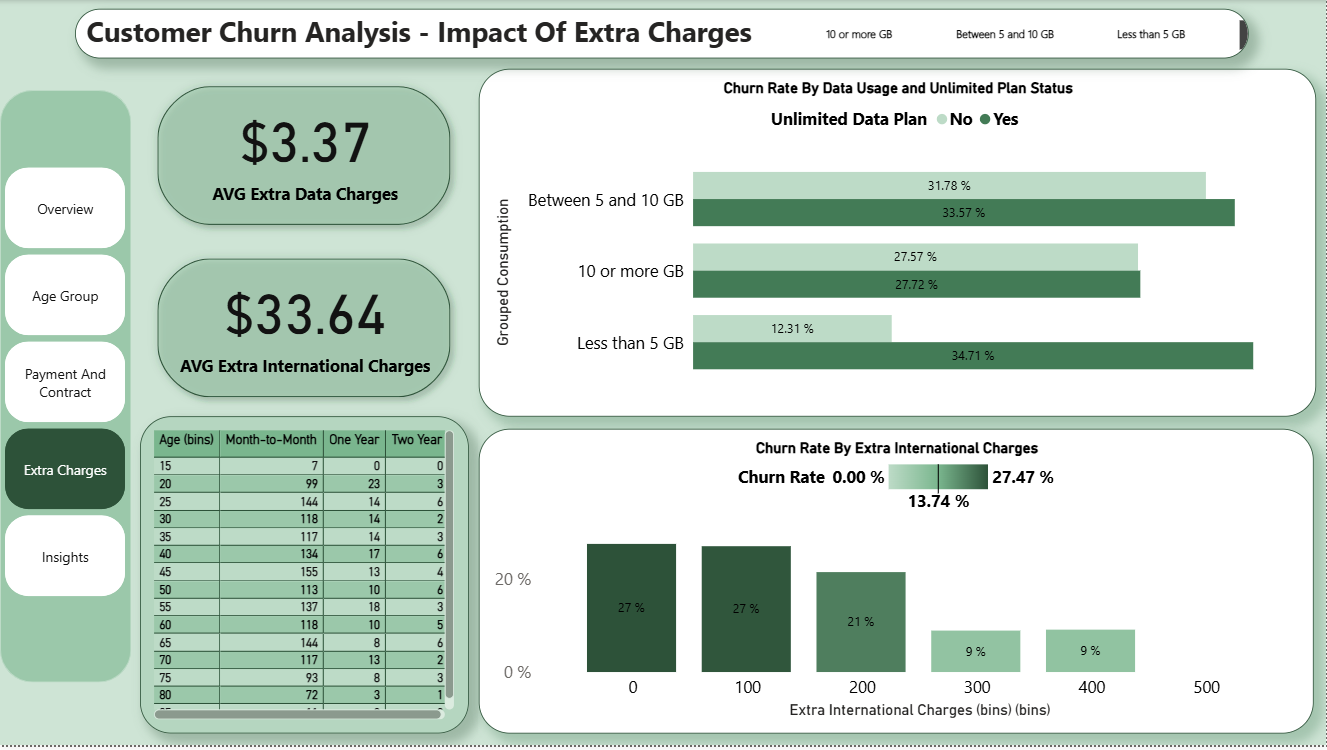

This screenshot's page, from the dashboard's own definition file:
{"tool":"powerbi","page":{"name":"Extra Charges","canvas":[1280,720],"ordinal":3},"visuals":[{"type":"clusteredBarChart","title":"Churn Rate By Data Usage  and Unlimited Plan Status","fields":{"Category":["Databel - Data.Grouped Consumption"],"Y":["Databel - Data.Churn Rate"],"Series":["Databel - Data.Unlimited Data Plan"]},"box":[462.4,66.4,808.9,335.6],"z":0},{"type":"clusteredColumnChart","title":"Churn Rate By Extra International Charges ","fields":{"Y":["Databel - Data.Churn Rate"],"Category":["Databel - Data.Extra International Charges (bins) (bins)"]},"box":[462.4,414.1,806.5,294.6],"z":0,"group":"g1"},{"type":"cardVisual","fields":{"Data":["Databel - Data.AVG Extra Data Charges","Databel - Data.AVG Extra International Charges"]},"box":[135.2,66.4,317.5,335.6],"z":1000},{"type":"pivotTable","title":"Age Per Contract Category","fields":{"Columns":["Databel - Data.Contract Type"],"Values":["Sum(Databel - Data.Churned)"],"Rows":["Databel - Data.Age (bins)"]},"box":[135.2,402,317.5,306.6],"z":2000},{"type":"textbox","box":[72.4,8.5,1133.6,48.3],"z":3000},{"type":"group","id":"g1","title":"Group 1","box":[462.4,414.1,806.5,294.6],"z":4000},{"type":"advancedSlicerVisual","fields":{"Values":["Databel - Data.Grouped Consumption"]},"box":[759.4,10.9,425,42.3],"z":5000},{"type":"shape","box":[0,86.9,126.8,572.2],"z":6000},{"type":"pageNavigator","box":[0,156.9,126.8,426.2],"z":7000},{"type":"actionButton","box":[0,246.3,126.8,79.7],"z":8000},{"type":"actionButton","box":[0,330.8,126.8,79.7],"z":9000},{"type":"actionButton","box":[0,415.3,126.8,79.7],"z":10000},{"type":"actionButton","box":[0,503.4,126.8,79.7],"z":11000},{"type":"actionButton","box":[0,164.2,126.8,79.7],"z":12000}]}

Visuals, with their boxes in screenshot pixels (x1, y1, x2, y2), scaled from the page's 1280x720 canvas onto the 1327x750 screenshot:
"Churn Rate By Data Usage  and Unlimited Plan Status" clusteredBarChart: Rect(479, 69, 1318, 419)
"Churn Rate By Extra International Charges " clusteredColumnChart: Rect(479, 431, 1315, 738)
cardVisual - Databel - Data.AVG Extra Data Charges x Databel - Data.AVG Extra International Charges: Rect(140, 69, 469, 419)
"Age Per Contract Category" pivotTable: Rect(140, 419, 469, 738)
textbox: Rect(75, 9, 1250, 59)
"Group 1" group: Rect(479, 431, 1315, 738)
advancedSlicerVisual - Databel - Data.Grouped Consumption: Rect(787, 11, 1228, 55)
shape: Rect(0, 91, 131, 687)
pageNavigator: Rect(0, 163, 131, 607)
actionButton: Rect(0, 257, 131, 340)
actionButton: Rect(0, 345, 131, 428)
actionButton: Rect(0, 433, 131, 516)
actionButton: Rect(0, 524, 131, 607)
actionButton: Rect(0, 171, 131, 254)
